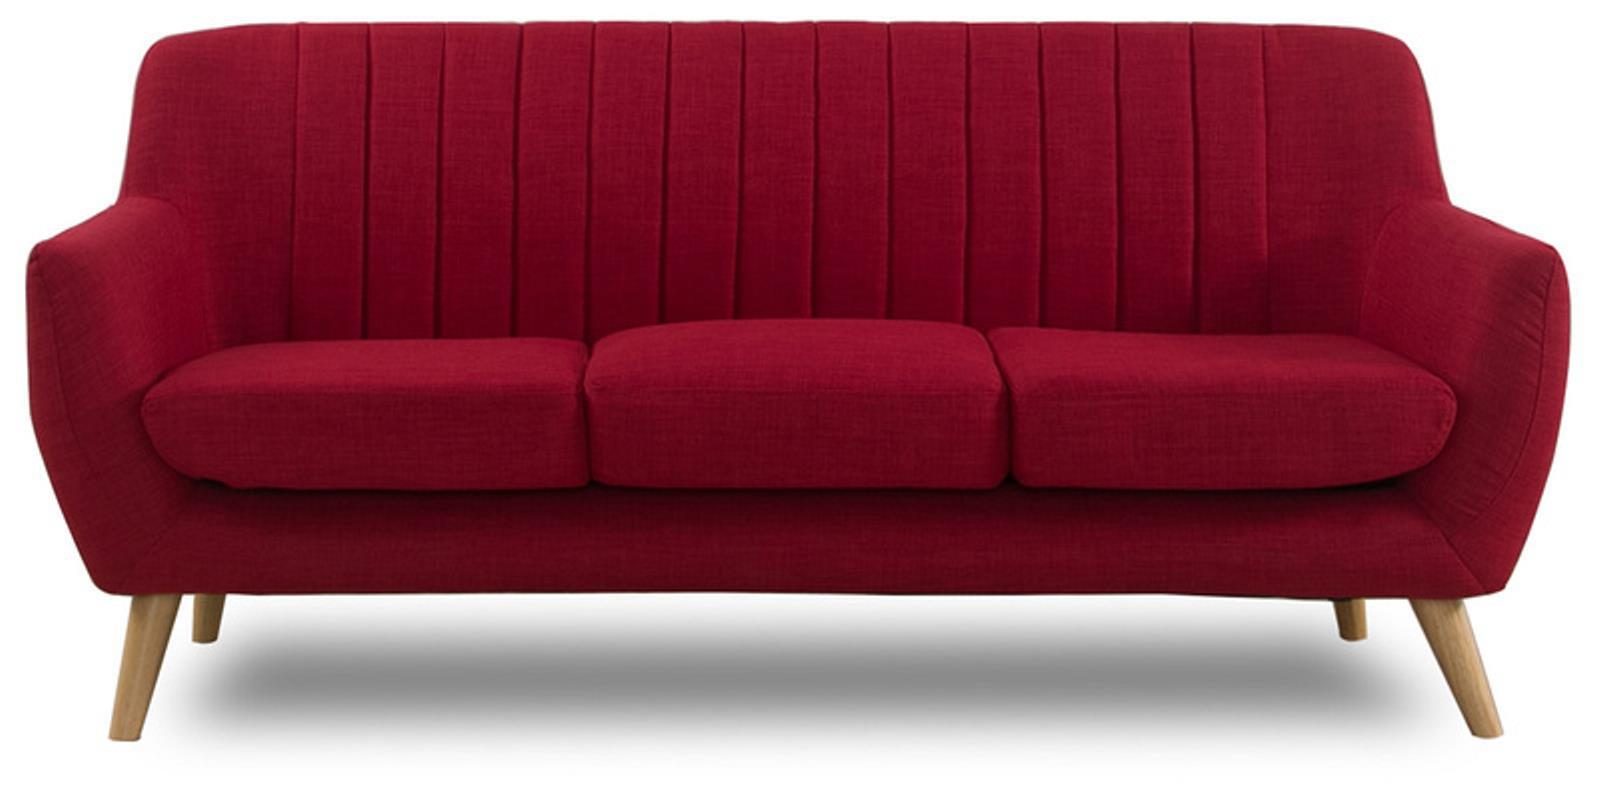Managua Three Seater Sofa in Red Colour by CasaCraft: (26, 18, 1570, 742)
